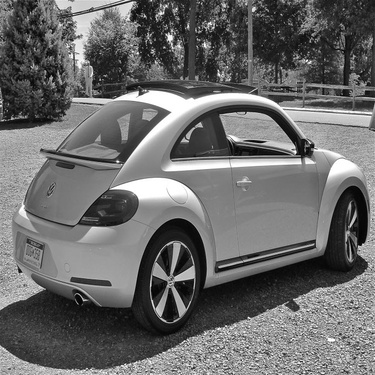car: (19, 48, 363, 316)
